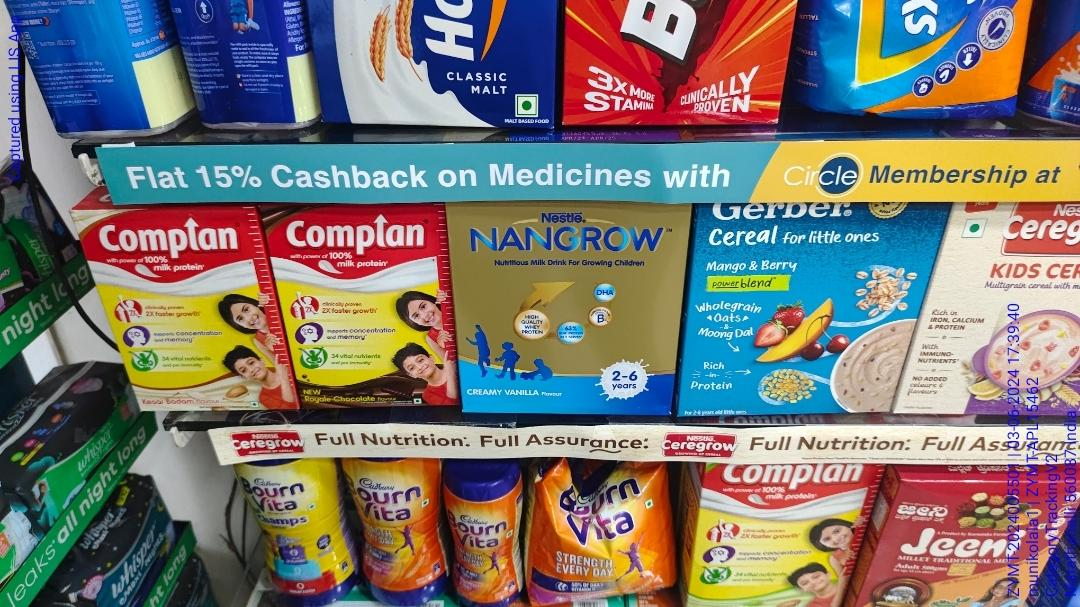BOURN_VITA_1_KG_JAR: (359, 459, 449, 607)
BOURN_VITA_500_G_JAR: (455, 475, 518, 607)
BOURN_VITA_750_G_POUCH: (529, 455, 681, 605)
BOURN_VITA_CHAMPS_500_G_JAR: (252, 459, 353, 604)
COMPLAN_CHOCOLATE_500_GMS_PACK: (286, 209, 457, 412)
COMPLAN_KESAR_BADAM_500_GMS_PACK: (78, 209, 281, 412)
COMPLAN_PISTA_BADAM_500_GMS_PACK: (692, 457, 851, 607)
